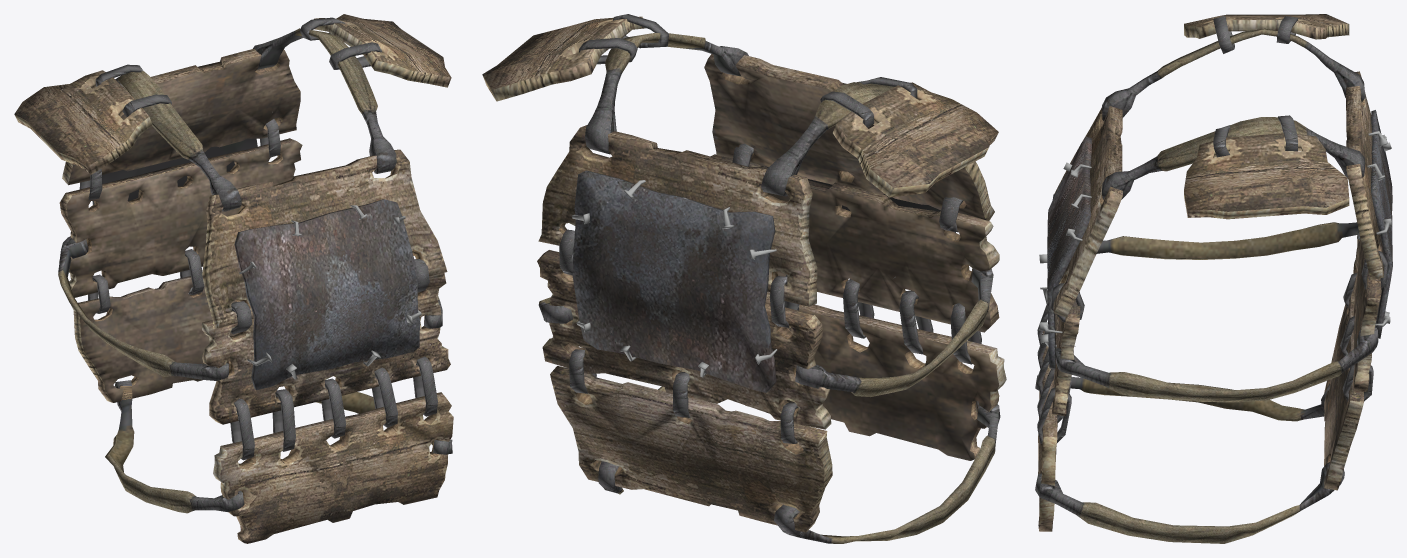
File: SurvivorMale_Armor_Makeshift_WoodMetal_LOD0.glb
3 views of the same model, side by side, from view 1: azimuth 30°, elevation 25°; view 2: azimuth 150°, elevation 25°; view 3: azimuth 270°, elevation 25° (orthographic). The views are drawn at different scales.
Parts seen in each view (by area): view 1: Hoodie; view 2: Hoodie; view 3: Hoodie.
Boxes of the visible parts, x1,y1,x2,y2 form: Hoodie: (14,14,453,543); Hoodie: (482,14,1006,543); Hoodie: (1035,14,1392,543).
Size of the model in its own units: 0.4867 by 0.4726 by 0.3722.
Materials: 1 (1 with a texture image).
